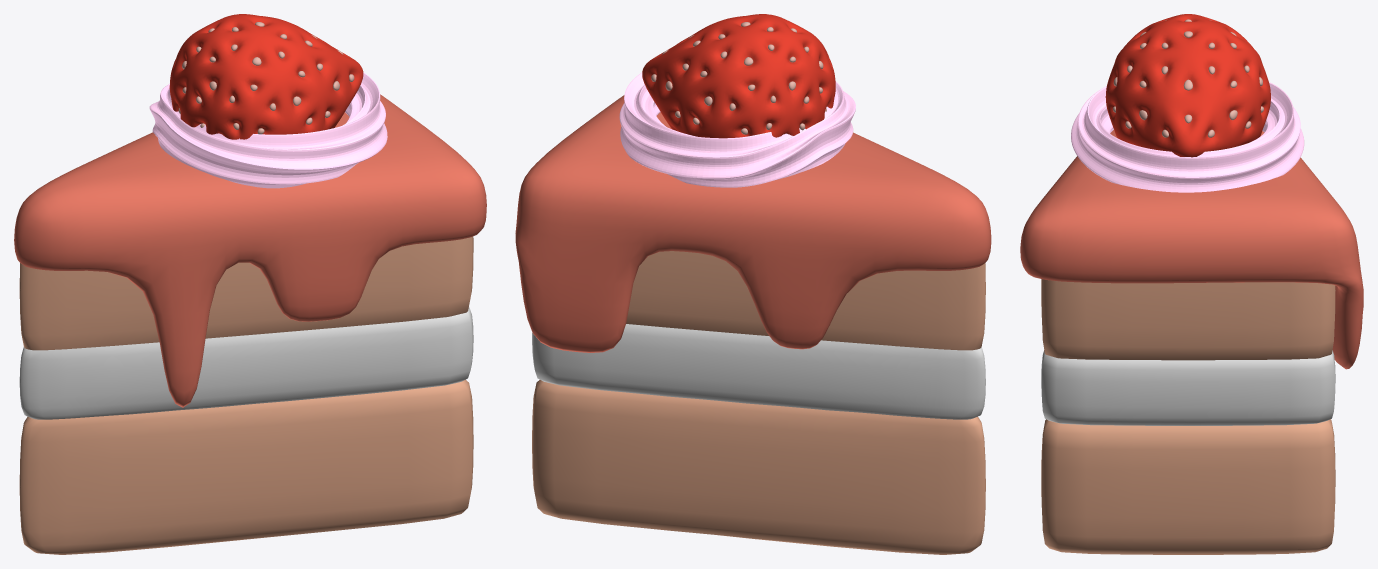
The picture shows the model from 3 angles, left to right: view 1: azimuth 30°, elevation 25°; view 2: azimuth 150°, elevation 25°; view 3: azimuth 270°, elevation 25°; orthographic projection. The views are drawn at different scales.
Parts seen in each view (by area): view 1: 立方体, 立方体.003, 立方体.001, 立方体.002, 棱角球, 圆环.003, 棱角球.001; view 2: 立方体.003, 立方体, 立方体.001, 立方体.002, 棱角球, 圆环.003, 棱角球.001; view 3: 立方体, 立方体.003, 立方体.002, 立方体.001, 棱角球, 圆环.003, 棱角球.001.
Part boxes in pixels (left/top/right/bottom): 立方体: left=19, top=379, right=473, bottom=554; 立方体.003: left=14, top=94, right=486, bottom=407; 立方体.001: left=19, top=307, right=473, bottom=419; 立方体.002: left=19, top=236, right=473, bottom=350; 棱角球: left=169, top=14, right=363, bottom=139; 圆环.003: left=149, top=72, right=387, bottom=188; 棱角球.001: left=178, top=22, right=354, bottom=134; 立方体.003: left=515, top=95, right=991, bottom=352; 立方体: left=532, top=380, right=985, bottom=554; 立方体.001: left=532, top=324, right=985, bottom=419; 立方体.002: left=626, top=251, right=985, bottom=350; 棱角球: left=642, top=14, right=835, bottom=138; 圆环.003: left=619, top=72, right=855, bottom=187; 棱角球.001: left=651, top=22, right=826, bottom=134; 立方体: left=1041, top=419, right=1335, bottom=554; 立方体.003: left=1020, top=130, right=1363, bottom=369; 立方体.002: left=1041, top=279, right=1335, bottom=360; 立方体.001: left=1041, top=350, right=1335, bottom=425; 棱角球: left=1105, top=14, right=1270, bottom=157; 圆环.003: left=1071, top=82, right=1304, bottom=192; 棱角球.001: left=1113, top=19, right=1263, bottom=137.
Bounding box in the file's own units: 269 × 310 × 205.
